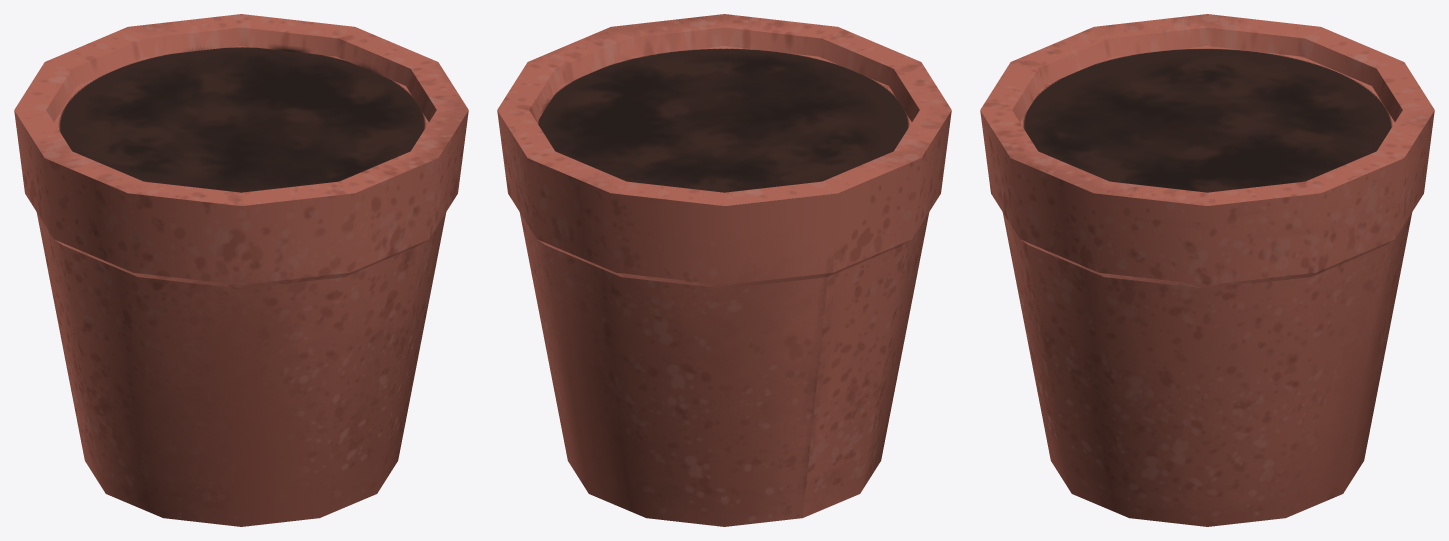
File: pot.gltf
3 views of the same model, side by side, from view 1: azimuth 30°, elevation 25°; view 2: azimuth 150°, elevation 25°; view 3: azimuth 270°, elevation 25° (orthographic).
Visible parts, largest first — view 1: Cylinder; view 2: Cylinder; view 3: Cylinder.
Boxes of the visible parts, box(x1,y1,x2,y2) form: Cylinder: box(14, 14, 468, 526); Cylinder: box(497, 14, 951, 526); Cylinder: box(980, 14, 1434, 526).
Bounding box in the file's own units: 0.6838 × 0.582 × 0.6838.
1 material, 1 textured.
